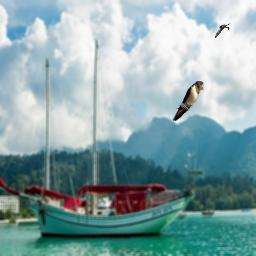Swallow: (172, 81, 204, 121), (215, 23, 231, 38)
